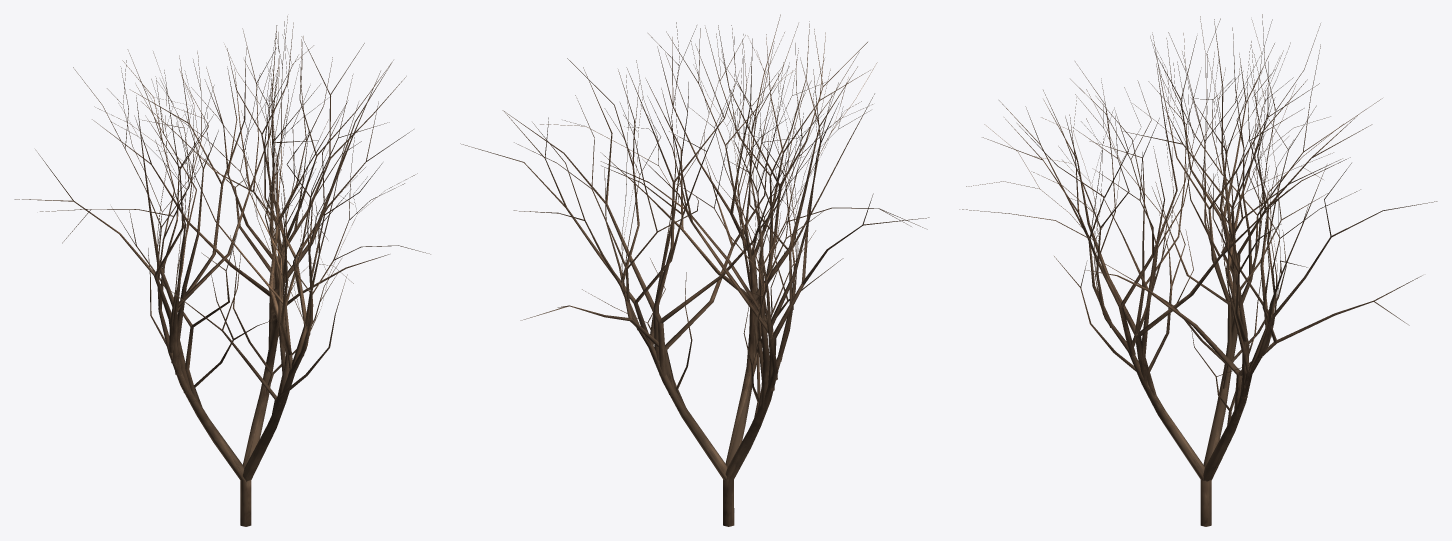
Rendered from Arvore_Seca.fbx.
The picture shows the model from 3 angles, left to right: view 1: azimuth 30°, elevation 25°; view 2: azimuth 150°, elevation 25°; view 3: azimuth 270°, elevation 25°; orthographic projection.
Parts seen in each view (by area): view 1: tree; view 2: tree; view 3: tree.
Boxes of the visible parts, x1,y1,x2,y2 form: tree: (14, 16, 430, 526); tree: (460, 14, 929, 526); tree: (959, 14, 1437, 526).
Bounding box in the file's own units: 572 × 624 × 553.
1 material, 1 textured.
